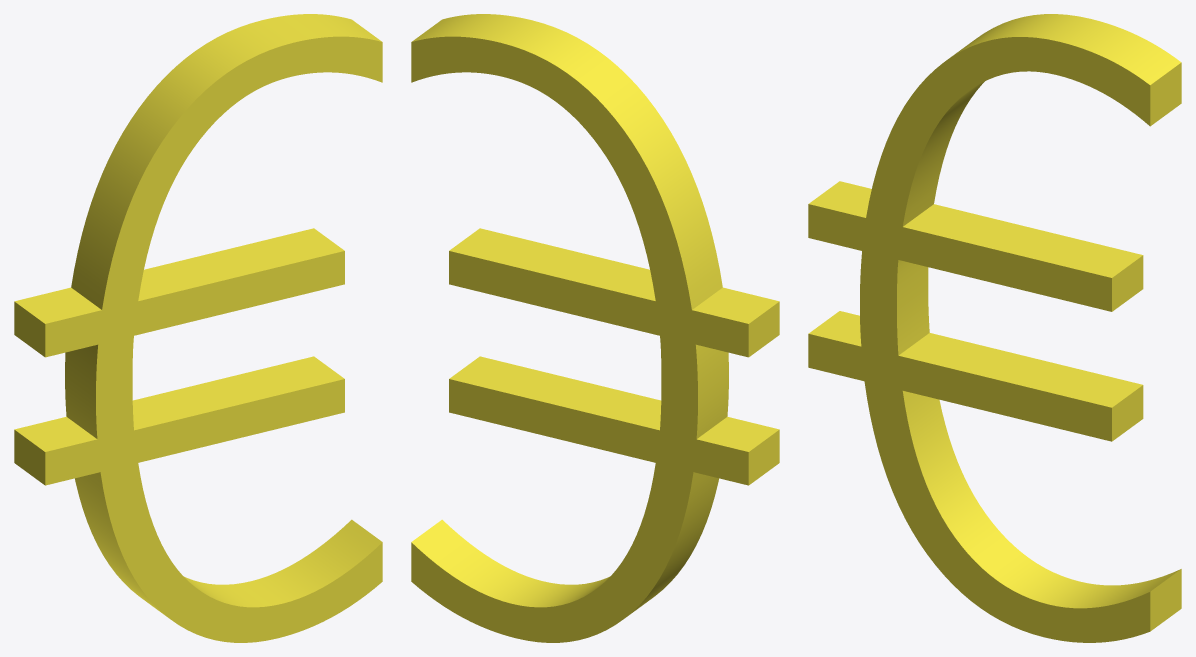
File: 2.Euro.fbx
3 renders of one model, left to right at view 1: azimuth 30°, elevation 25°; view 2: azimuth 150°, elevation 25°; view 3: azimuth 330°, elevation 25°, orthographic.
Visible parts, largest first — view 1: €; view 2: €; view 3: €.
Boxes of the visible parts, x1,y1,x2,y2 form: €: [14, 14, 382, 642]; €: [411, 14, 779, 642]; €: [808, 14, 1181, 642].
Bounding box in the file's own units: 42.26 × 70.82 × 6.7.
